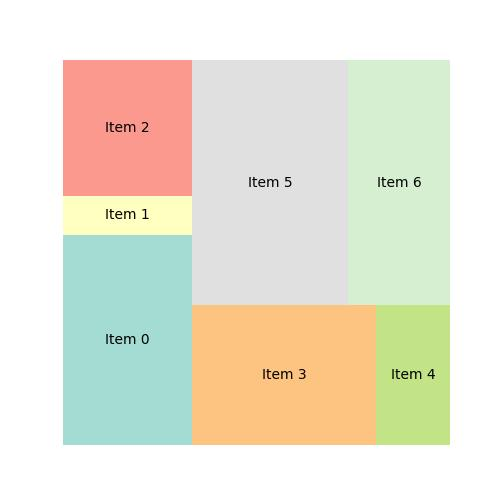rectangle: (192, 59, 348, 304), (64, 235, 191, 446), (191, 303, 377, 444), (349, 59, 449, 306), (64, 60, 193, 196), (376, 306, 451, 444), (63, 196, 194, 235)
